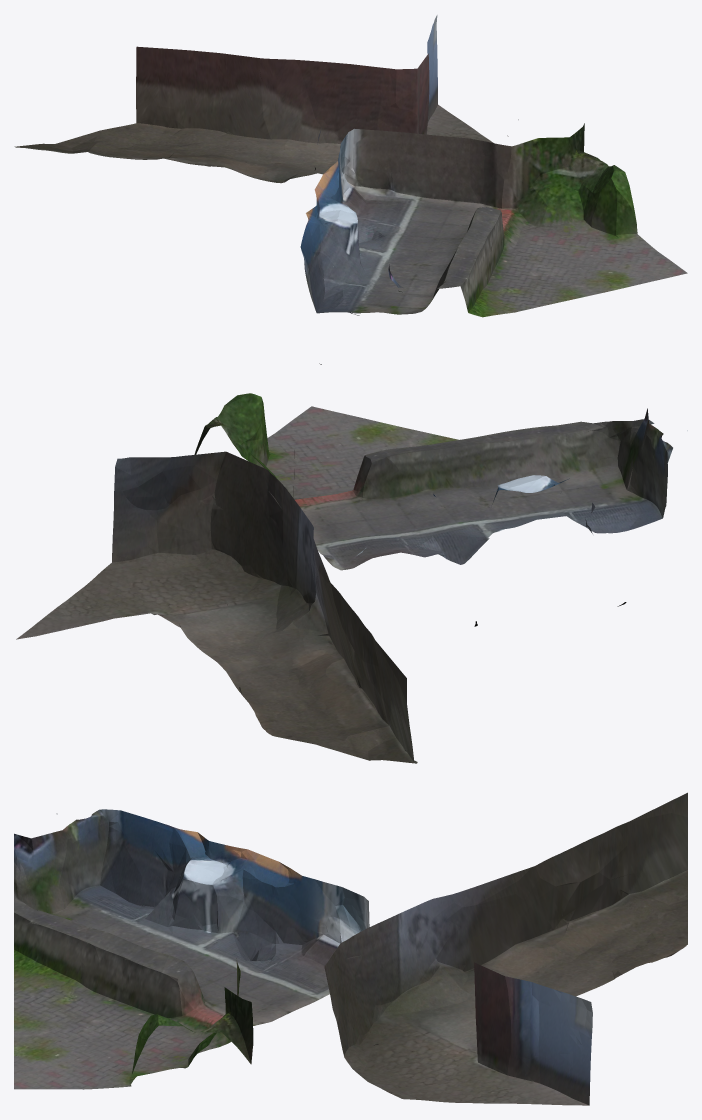
3 renders of one model, top to bottom at view 1: azimuth 30°, elevation 25°; view 2: azimuth 150°, elevation 25°; view 3: azimuth 270°, elevation 25°, orthographic. The views are drawn at different scales.
Size of the model in its own units: 6.29 by 2.06 by 8.36.
Materials: 2 (2 with a texture image).
